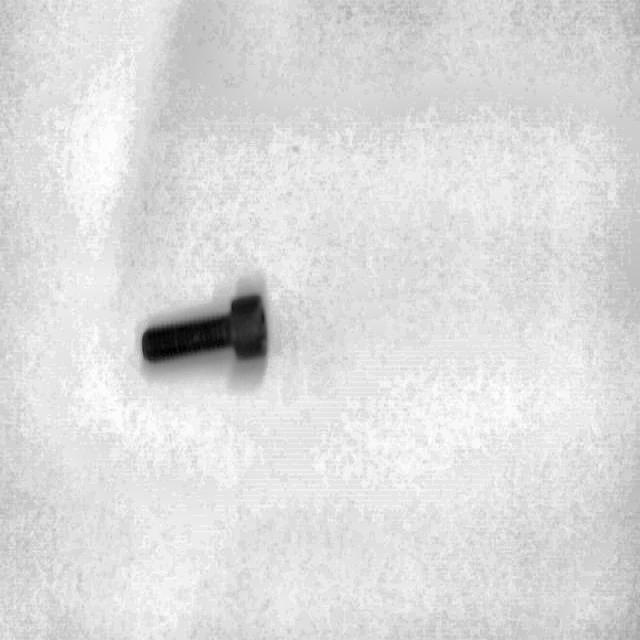Socket head cap screw: (139, 291, 269, 365)
